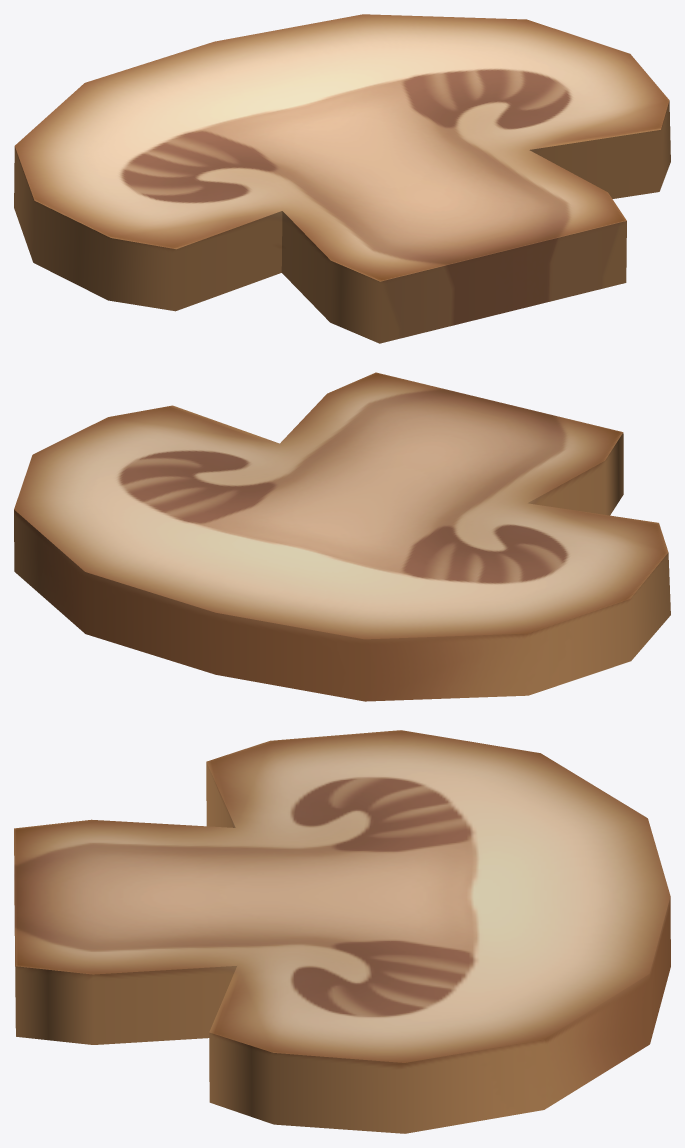
The model's file is Mushroom_01.fbx.
3 views of the same model, one above another, from view 1: azimuth 30°, elevation 25°; view 2: azimuth 150°, elevation 25°; view 3: azimuth 270°, elevation 25° (orthographic). The views are drawn at different scales.
Parts seen in each view (by area): view 1: Mushroom_01; view 2: Mushroom_01; view 3: Mushroom_01.
Part boxes in pixels (x1=…): Mushroom_01: x1=14, y1=14, x2=670, y2=343; Mushroom_01: x1=14, y1=372, x2=670, y2=701; Mushroom_01: x1=14, y1=730, x2=670, y2=1133.
Size of the model in its own units: 28.98 by 2.87 by 24.13.
